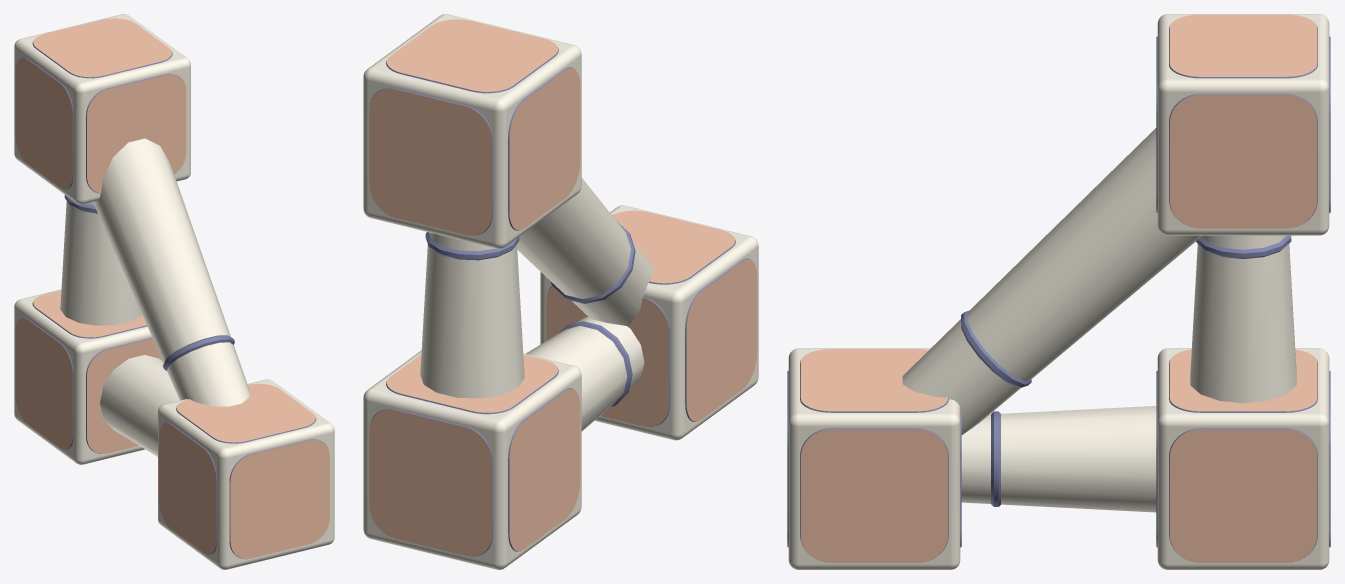
Rendered from R4C_STRUT_RAMP.fbx.
The picture shows the model from 3 angles, left to right: view 1: azimuth 30°, elevation 25°; view 2: azimuth 150°, elevation 25°; view 3: azimuth 270°, elevation 25°; orthographic projection. The views are drawn at different scales.
Visible parts, largest first — view 1: R4C_STRUT_RAMP; view 2: R4C_STRUT_RAMP; view 3: R4C_STRUT_RAMP.
Boxes of the visible parts, x1,y1,x2,y2 form: R4C_STRUT_RAMP: (14,14,334,569); R4C_STRUT_RAMP: (363,14,758,569); R4C_STRUT_RAMP: (787,14,1330,569).
Size of the model in its own units: 0.52 by 1.62 by 1.62.
